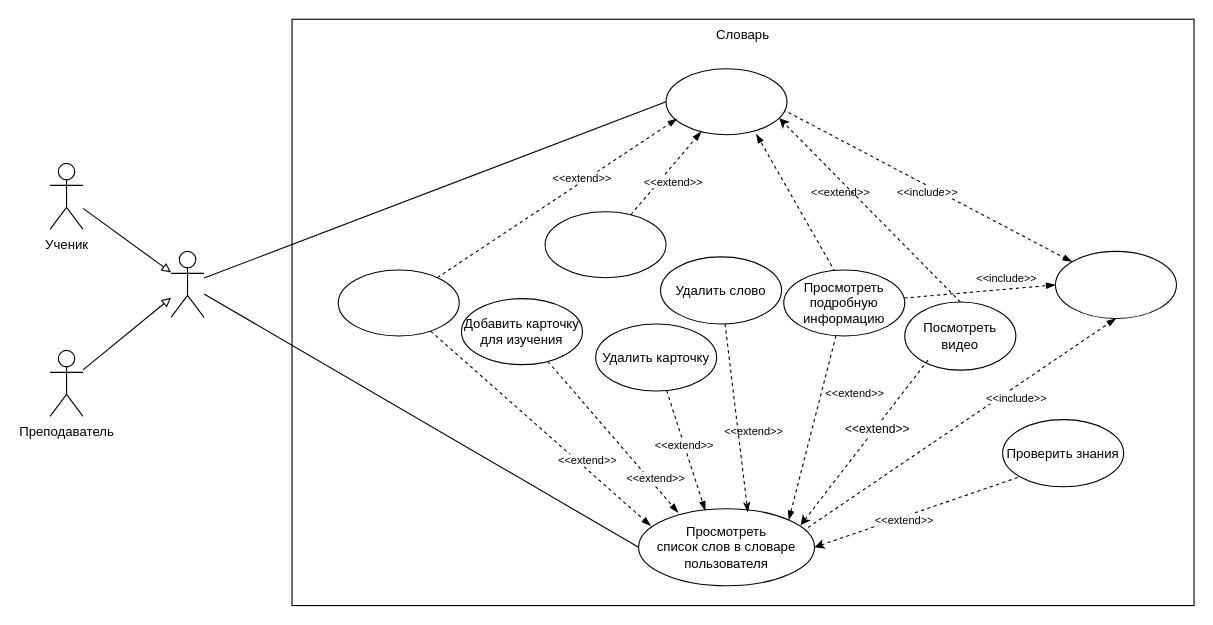
The diagram is 1213 pixels wide and 625 high, and some of its shapes have lost their labels. The box of each missing label's shape, as (x1, y1, x2, y2) in pixels:
Добавить в словарь пользователя: (544, 211, 666, 278)
Найти слово в словаре: (665, 68, 787, 135)
Пользователь: (170, 250, 204, 317)
Прослушать озвучку произношения: (337, 269, 459, 336)
Просмотреть перевод: (1054, 250, 1176, 318)
